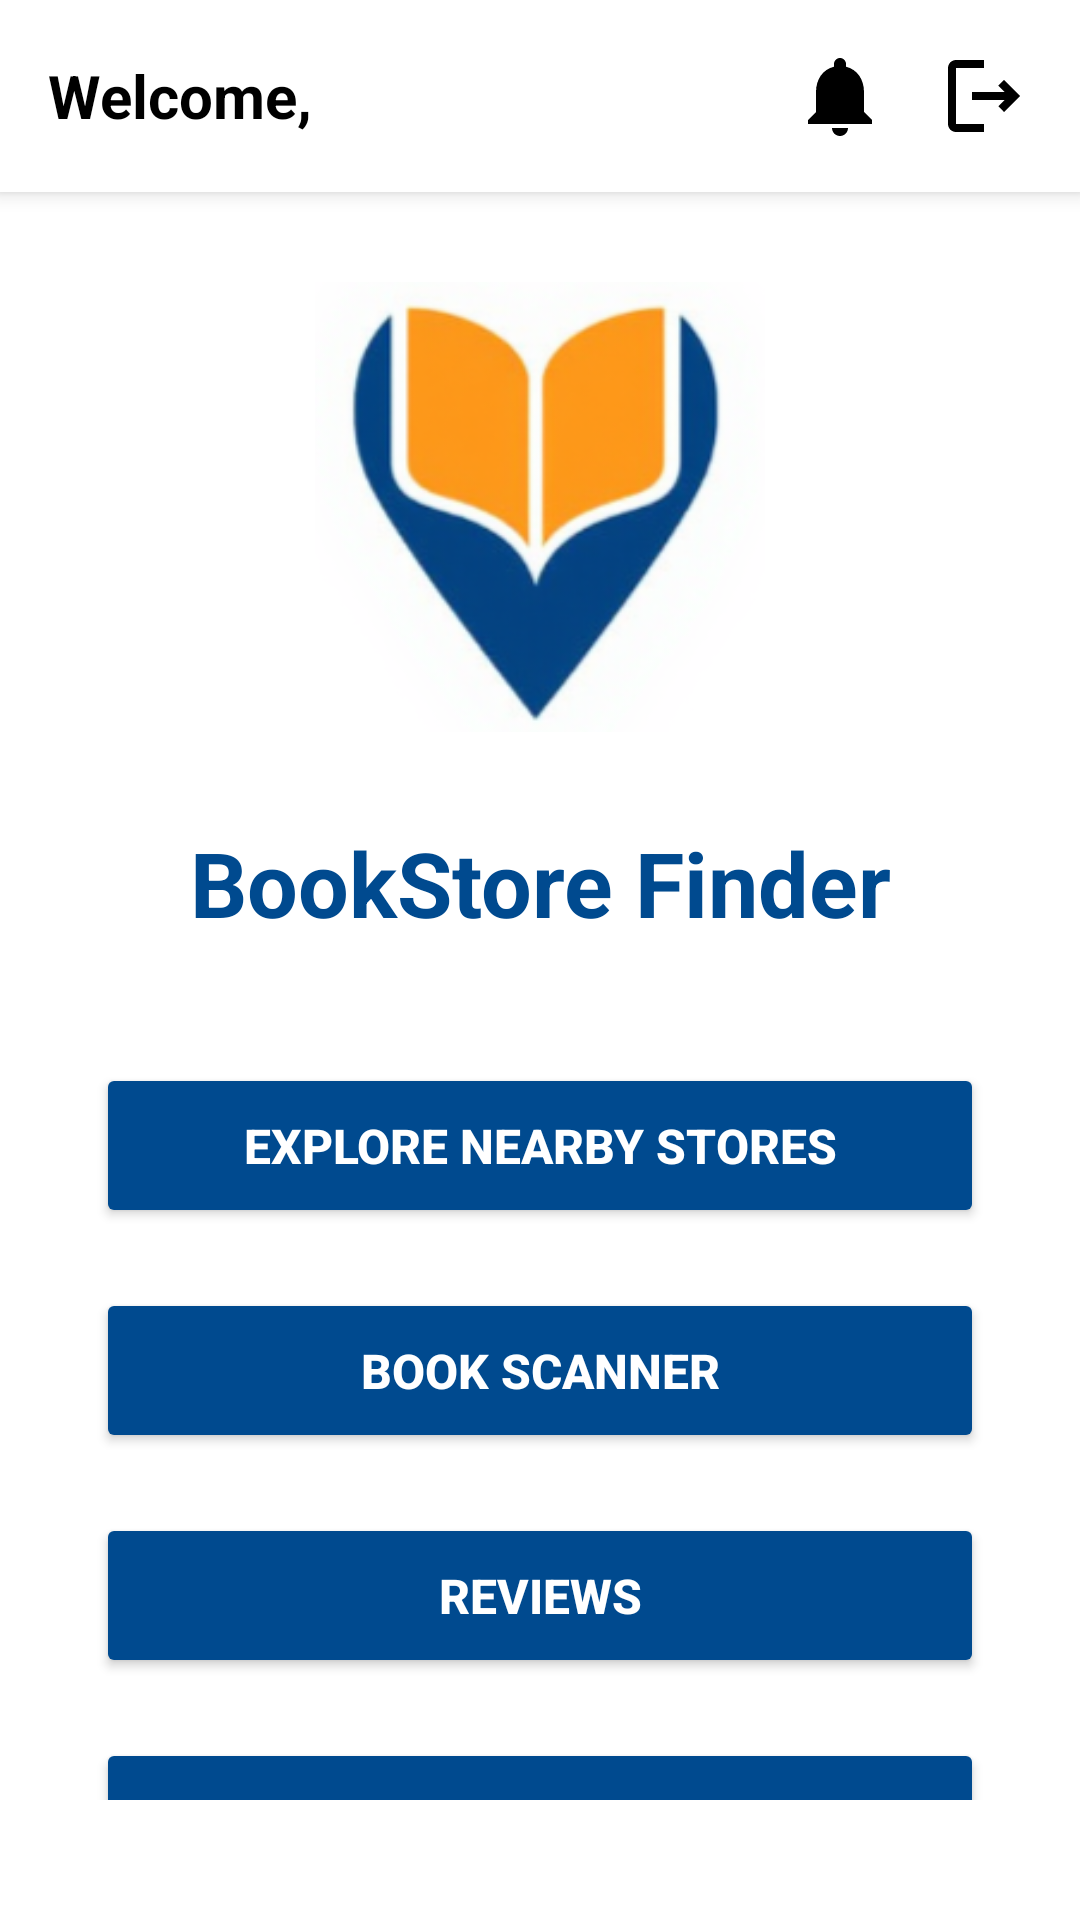

Where to tap for icons on this 1080x1920 app screen, as [x,y]:
Notifications: [840,97]
